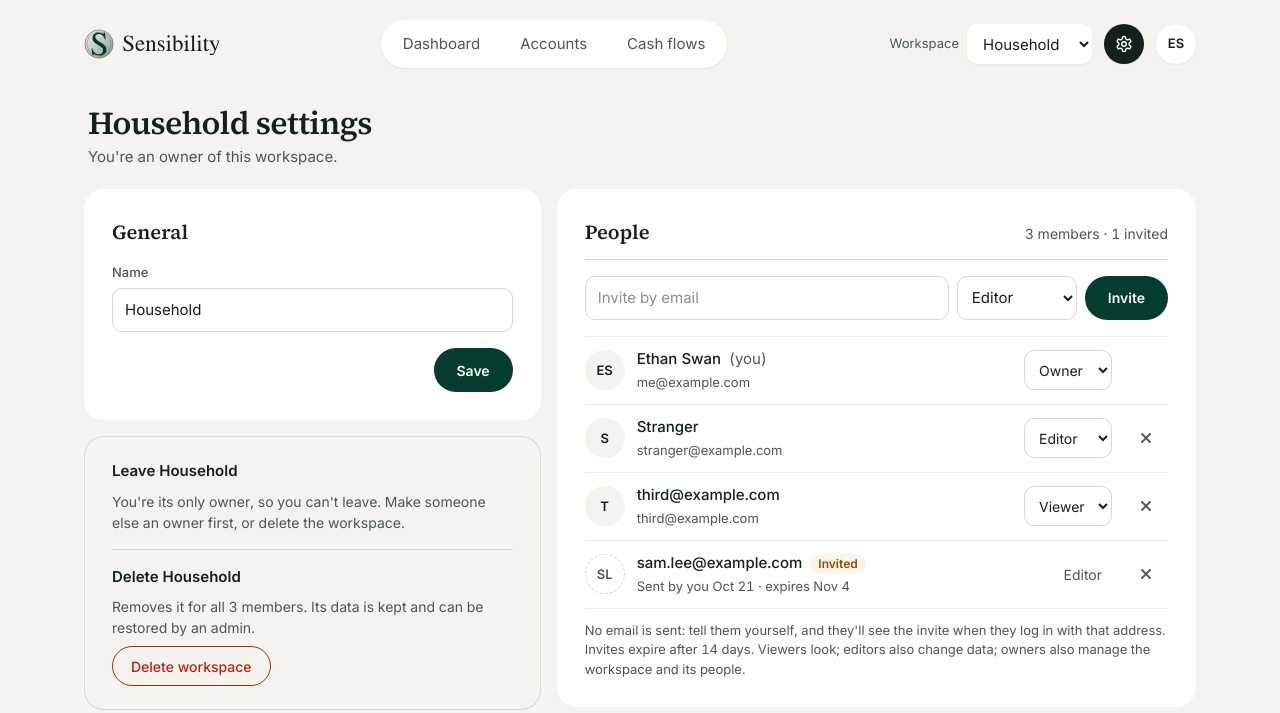
settings, as the owner › asks in the row, then removes
Click the link named "Remove Stranger" at x=1146, y=438, box [1138,430,1154,446]
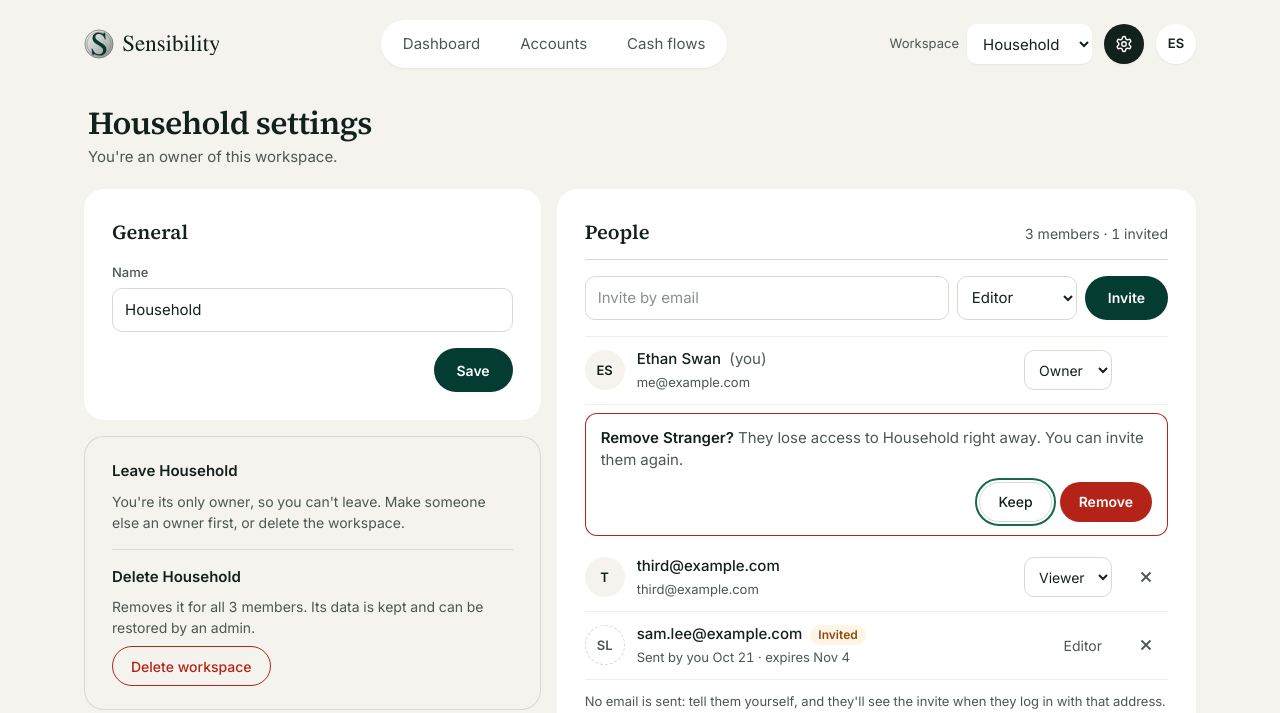
expect the list item that starts with "Remove Stranger?" shows "Remove Stranger? They lose access to Household right away. You can invite them again.": met, box [585,413,1168,536]
Click the button "Remove" at x=1106, y=502, box [1060,482,1152,522]
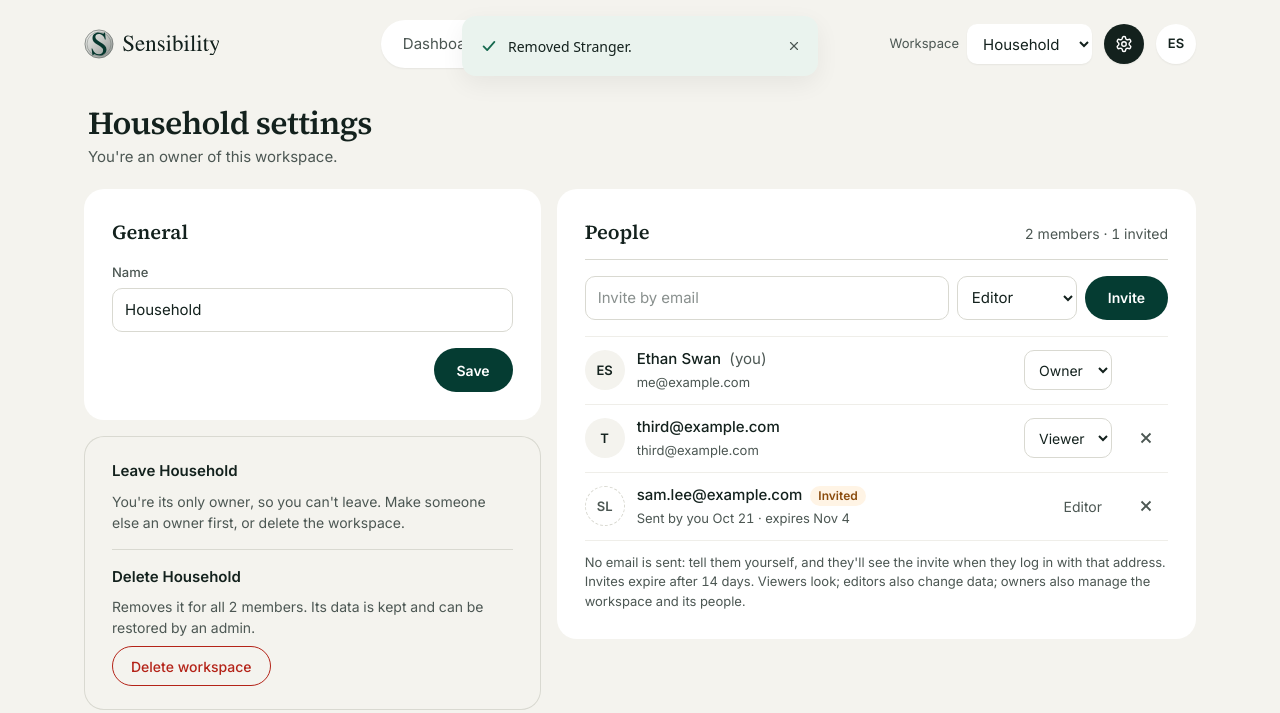
expect the text "Removed Stranger." is shown: met, box [508,36,632,56]
expect the text "2 members · 1 invited" is shown: met, box [1025,223,1168,244]
